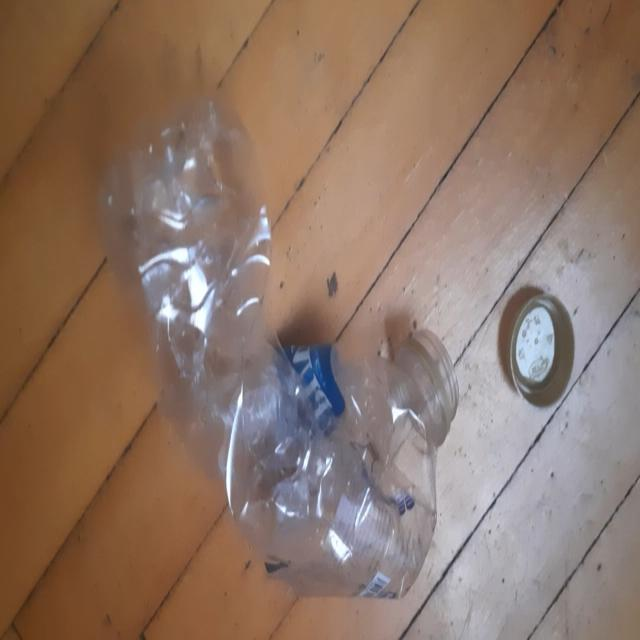Plastic: (100, 97, 460, 599)
